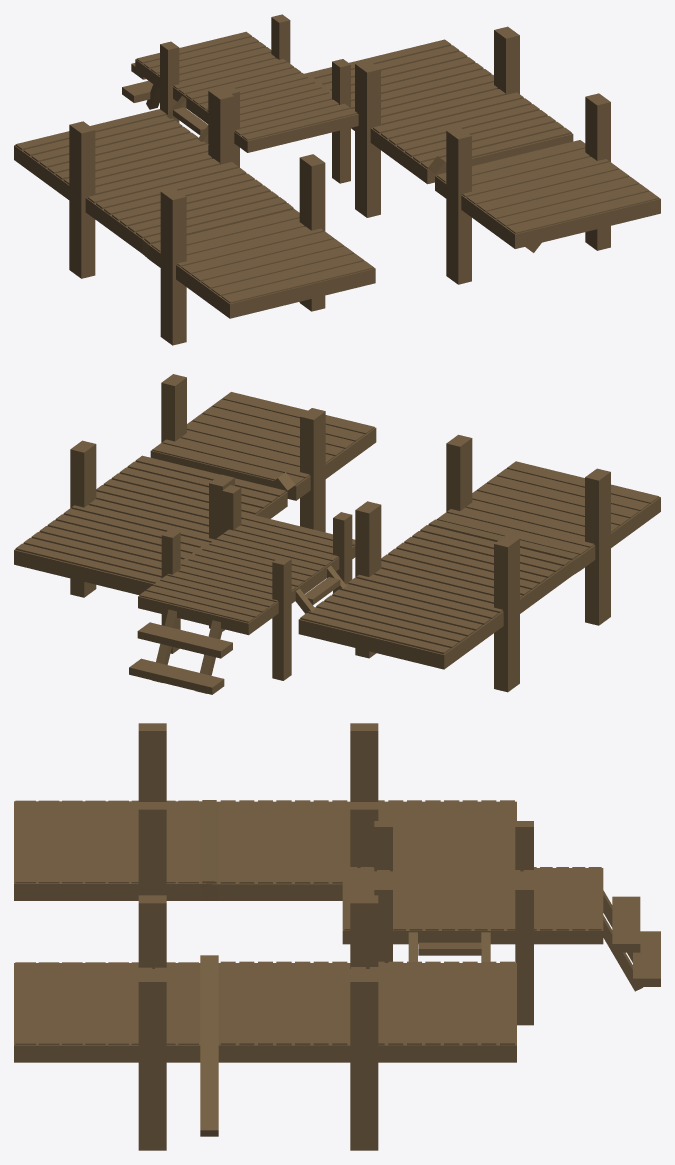
The model's file is perce.fbx.
3 renders of one model, top to bottom at view 1: azimuth 30°, elevation 25°; view 2: azimuth 150°, elevation 25°; view 3: azimuth 270°, elevation 25°, orthographic. The views are drawn at different scales.
Parts seen in each view (by area): view 1: Cube.011; view 2: Cube.011; view 3: Cube.011.
Boxes of the visible parts, left/top/right/bottom form: Cube.011: left=14, top=14, right=660, bottom=345; Cube.011: left=14, top=374, right=660, bottom=694; Cube.011: left=14, top=723, right=660, bottom=1150.
Size of the model in its own units: 631 by 230 by 695.
